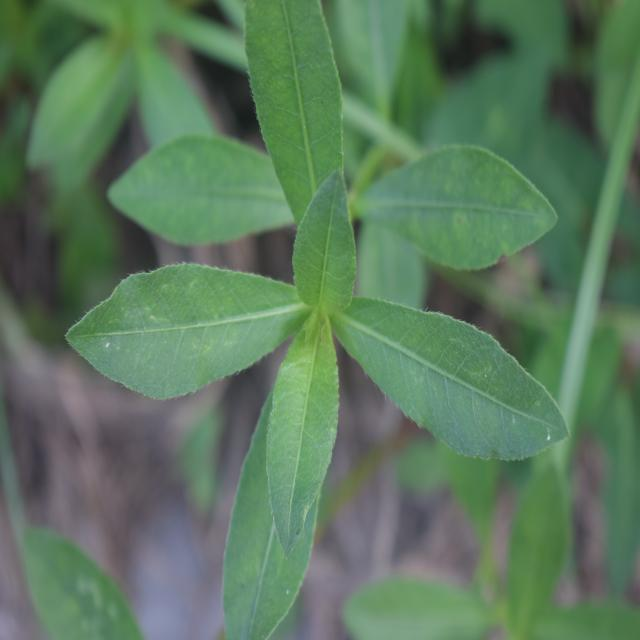Alligatorweed: (58, 10, 553, 592)
